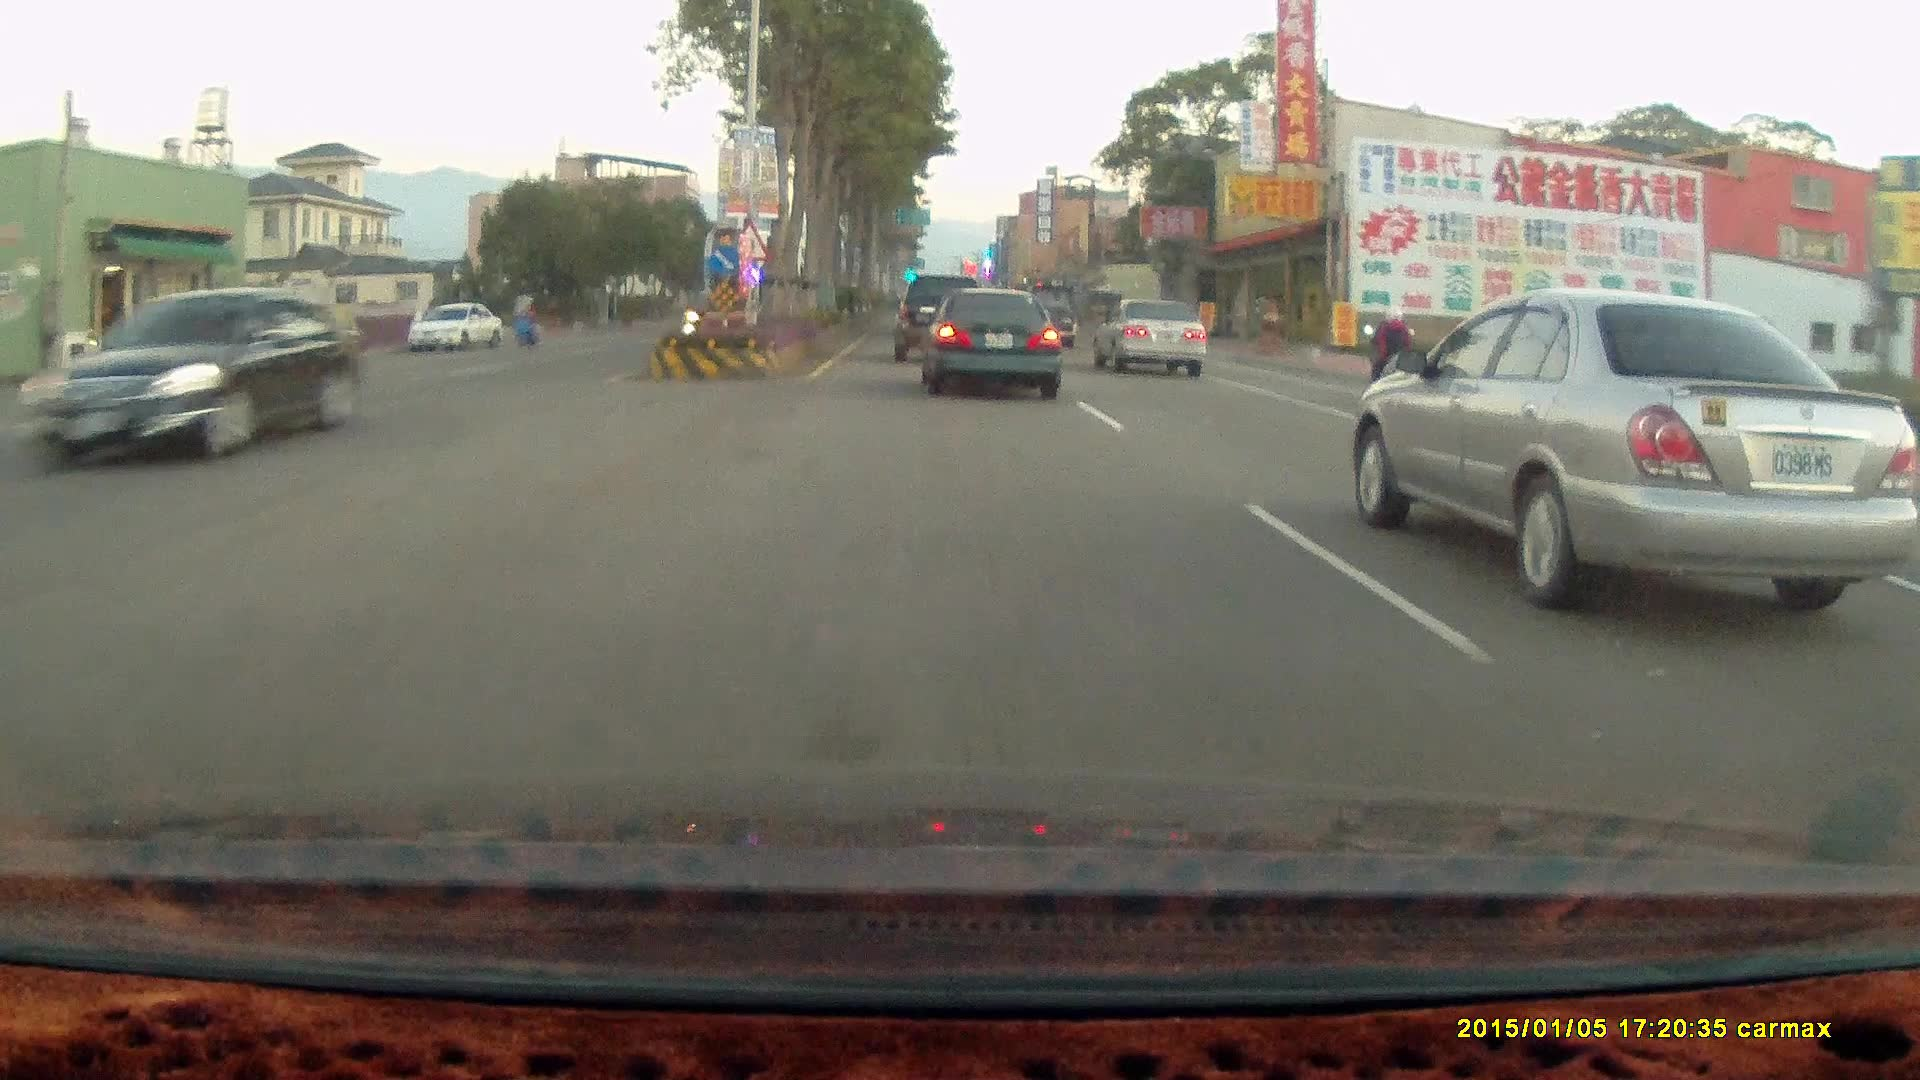rider: (1359, 300, 1426, 410), (1361, 302, 1411, 407), (509, 292, 539, 352)
vehicle: (1355, 288, 1920, 615), (13, 284, 363, 471), (10, 291, 360, 478), (917, 287, 1062, 400), (919, 287, 1062, 399), (1096, 298, 1210, 378), (1091, 296, 1205, 375), (892, 274, 985, 369), (892, 280, 982, 368), (407, 303, 510, 354), (413, 302, 503, 355), (1009, 285, 1077, 351)
